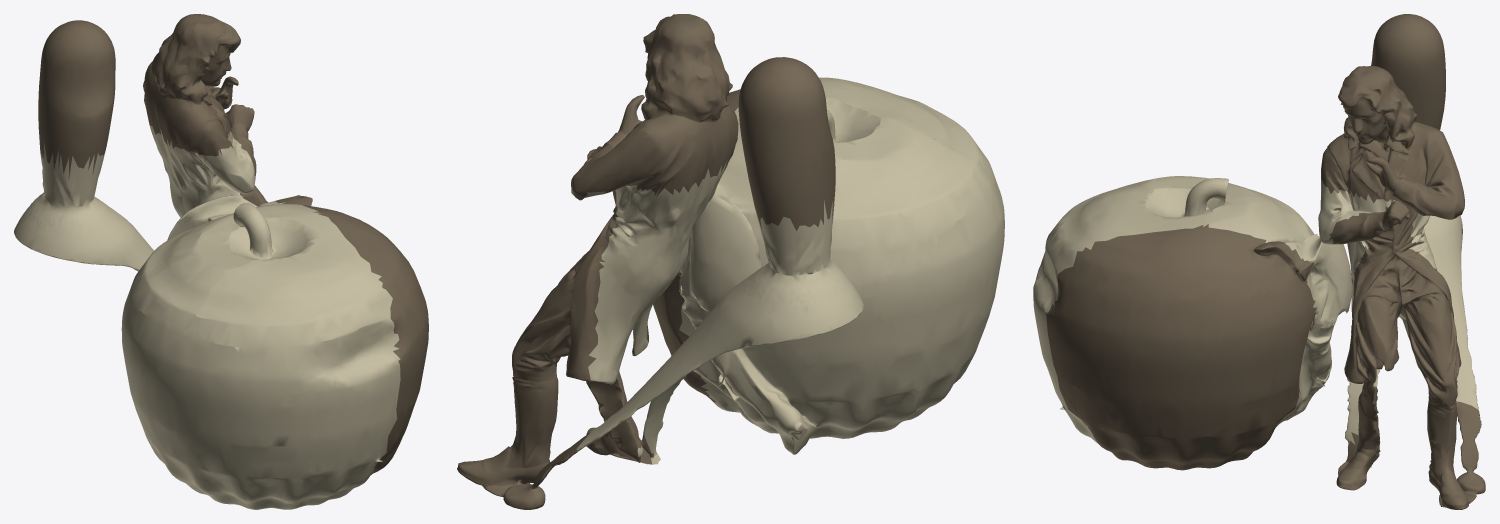
Rendered from newton-h31.glb.
3 renders of one model, left to right at view 1: azimuth 30°, elevation 25°; view 2: azimuth 150°, elevation 25°; view 3: azimuth 270°, elevation 25°, orthographic. The views are drawn at different scales.
Visible parts, largest first — view 1: tripo_node_0a3ed444-a7a4-40c5-b77b-919911be2749; view 2: tripo_node_0a3ed444-a7a4-40c5-b77b-919911be2749; view 3: tripo_node_0a3ed444-a7a4-40c5-b77b-919911be2749.
Boxes of the visible parts, x1,y1,x2,y2 form: tripo_node_0a3ed444-a7a4-40c5-b77b-919911be2749: (14, 14, 428, 509); tripo_node_0a3ed444-a7a4-40c5-b77b-919911be2749: (457, 14, 1004, 509); tripo_node_0a3ed444-a7a4-40c5-b77b-919911be2749: (1033, 14, 1485, 509).
Bounding box in the file's own units: 1.77 × 2.18 × 2.32.
